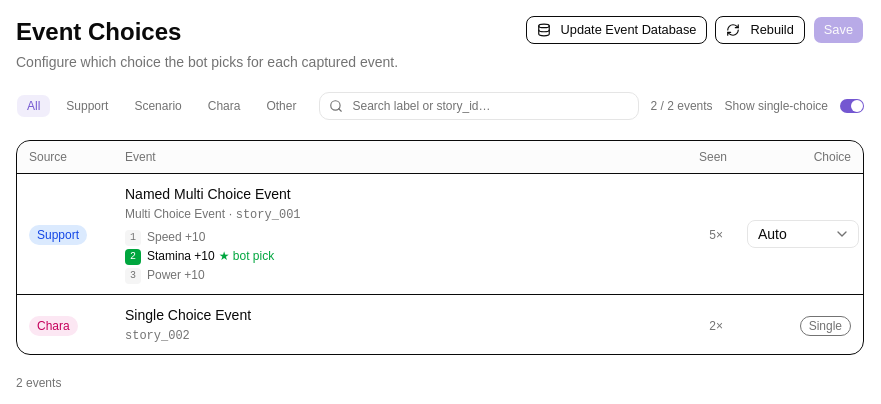
Scenario: Events page › Update Event Database button shows Updating… while pending
Expected: the element with test id "event-row-story_001" is shown, [17,174,863,295]
Click the button "Update Event Database".
click(616, 30)  # box [526,16,707,44]
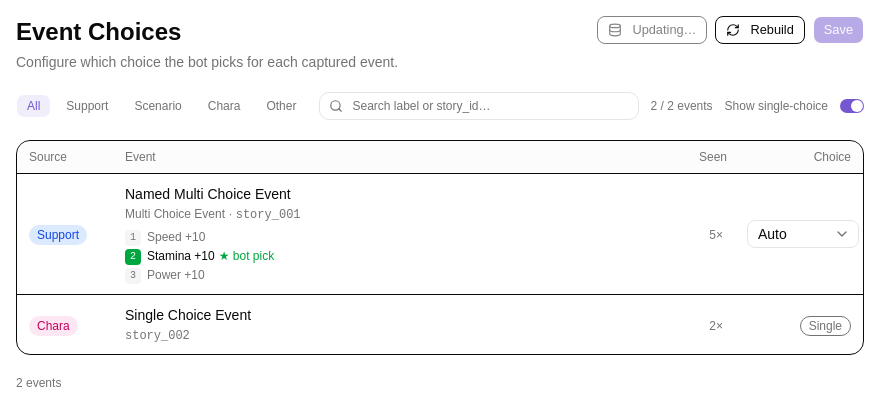
Result: the button "Updating…" is shown at [597,16,707,44]
